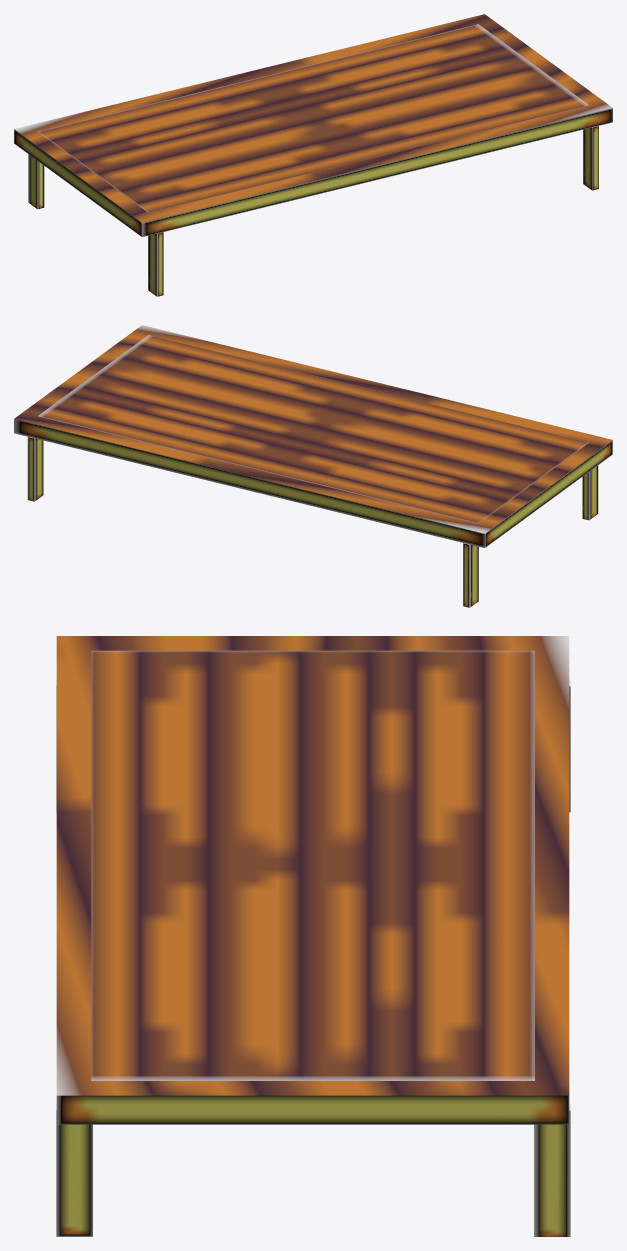
Rendered from small_table.dae.
3 renders of one model, top to bottom at view 1: azimuth 30°, elevation 25°; view 2: azimuth 150°, elevation 25°; view 3: azimuth 270°, elevation 25°, orthographic. The views are drawn at different scales.
Parts seen in each view (by area): view 1: Cube2-0; view 2: Cube2-0; view 3: Cube2-0.
Boxes of the visible parts, left/top/right/bottom form: Cube2-0: left=14, top=14, right=612, bottom=296; Cube2-0: left=14, top=325, right=612, bottom=607; Cube2-0: left=56, top=636, right=570, bottom=1236.
Size of the model in its own units: 4.9 by 0.7715 by 2.32.
